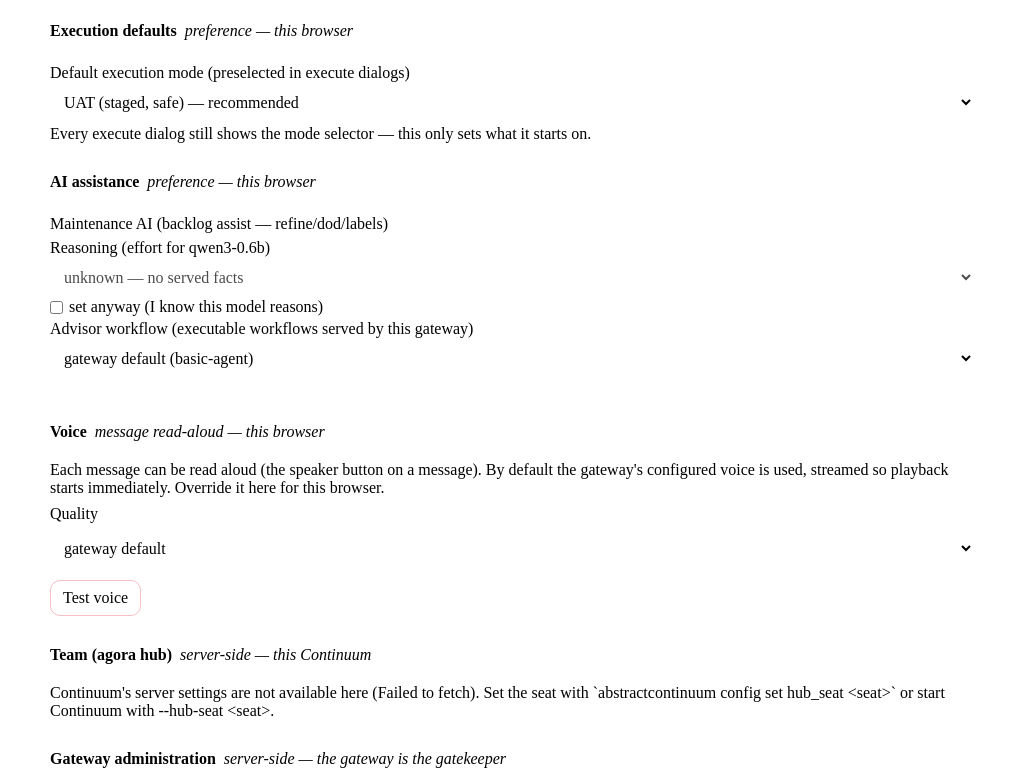
Test: Settings — interim reasoning selector (reasoning-1st-citizen, delegate c5869) › UNKNOWN (absent facts): locked fail-safe, and 'set anyway' unlocks the contract ladder
Check: the dropdown named "The gateway serves no reasoning facts for this model (unknow" is disabled, box [50,259,974,296]
Click the checkbox labelled "set anyway (I know this model reasons)" at (56, 307), box [50,300,63,314]
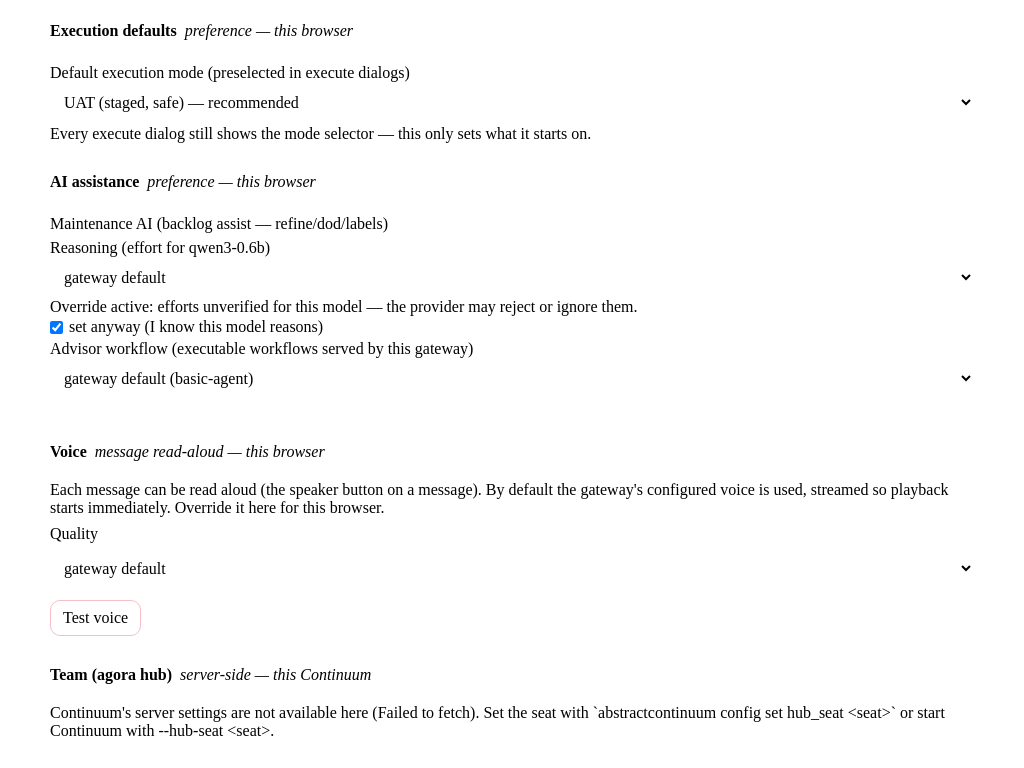
Check: the dropdown named "The gateway serves no reasoning facts for this model (unknow" is enabled, box [50,259,974,296]
